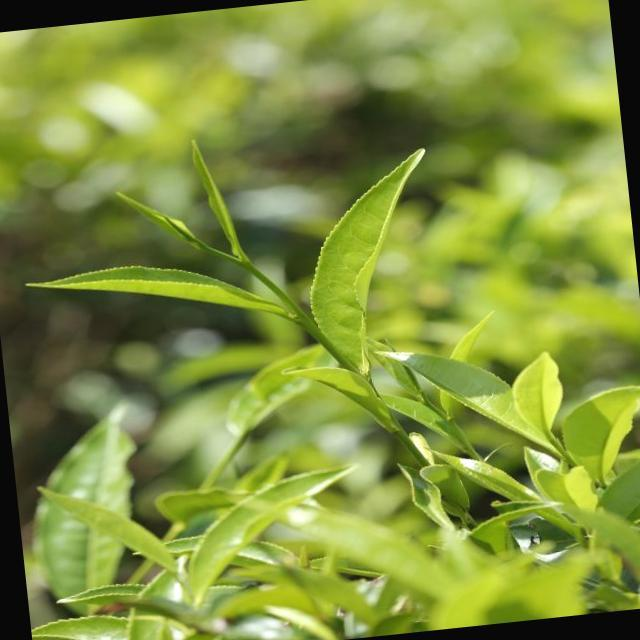Stem: (246, 263, 260, 277)
